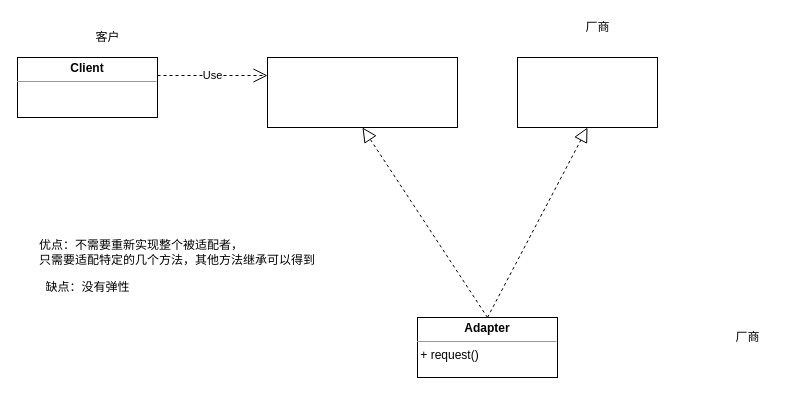
Some shapes in this 785 by 395 pixel diagram are drawn without their labels. Each missing label, with the centre of its shape:
<<Interface>> Target + request(): pixel 362 92
Adaptee + specficRequest(): pixel 587 92
